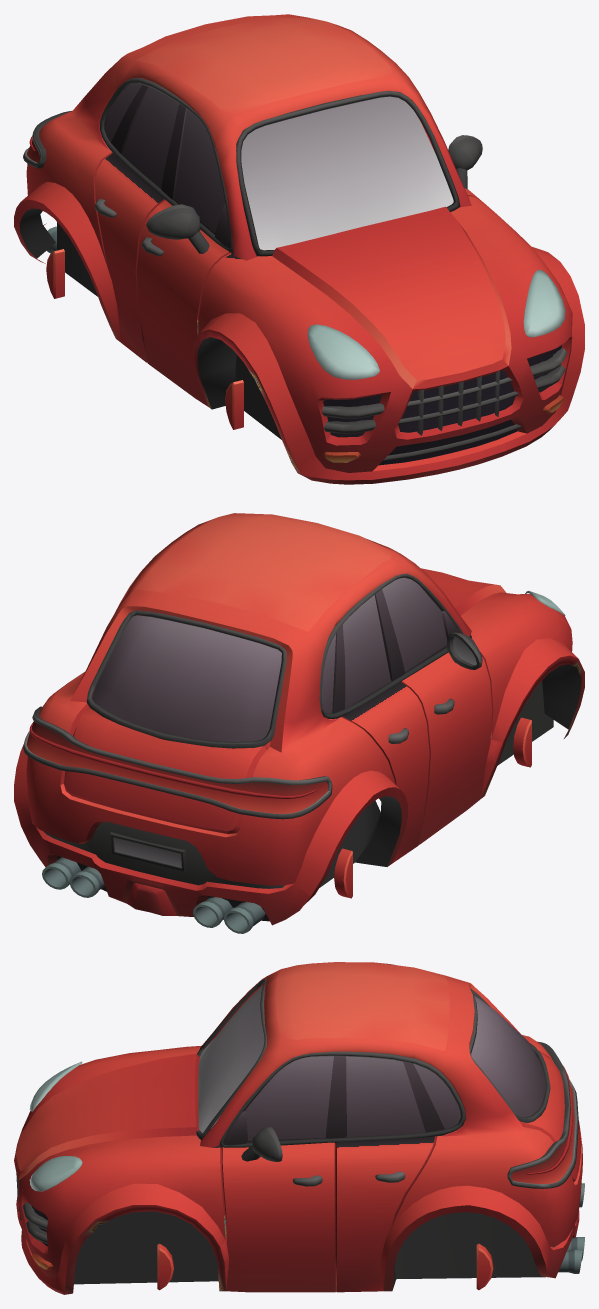
The model's file is car.glb.
3 renders of one model, top to bottom at view 1: azimuth 30°, elevation 25°; view 2: azimuth 150°, elevation 25°; view 3: azimuth 270°, elevation 25°, orthographic. The views are drawn at different scales.
Visible parts, largest first — view 1: body_01, hood, accessories, brake, lanterns; view 2: body_01, lanterns, exhaust_pipe, accessories, brake, hood; view 3: body_01, hood, accessories, lanterns, brake, exhaust_pipe.
Part boxes in pixels (x1,y1,x2,y2): body_01: (14, 14, 584, 484); hood: (272, 206, 511, 389); accessories: (95, 135, 566, 461); brake: (46, 249, 243, 429); lanterns: (23, 110, 72, 168); body_01: (14, 513, 584, 925); lanterns: (23, 706, 332, 819); exhaust_pipe: (42, 857, 265, 933); accessories: (388, 590, 565, 743); brake: (334, 717, 531, 898); hood: (421, 568, 506, 615); body_01: (16, 962, 582, 1294); hood: (14, 1053, 199, 1179); accessories: (16, 1061, 405, 1243); lanterns: (507, 1041, 578, 1188); brake: (157, 1243, 493, 1290); exhaust_pipe: (558, 1183, 584, 1273).
Bounding box in the file's own units: 1.38 × 1.12 × 2.28.
Materials: 1 (1 with a texture image).
